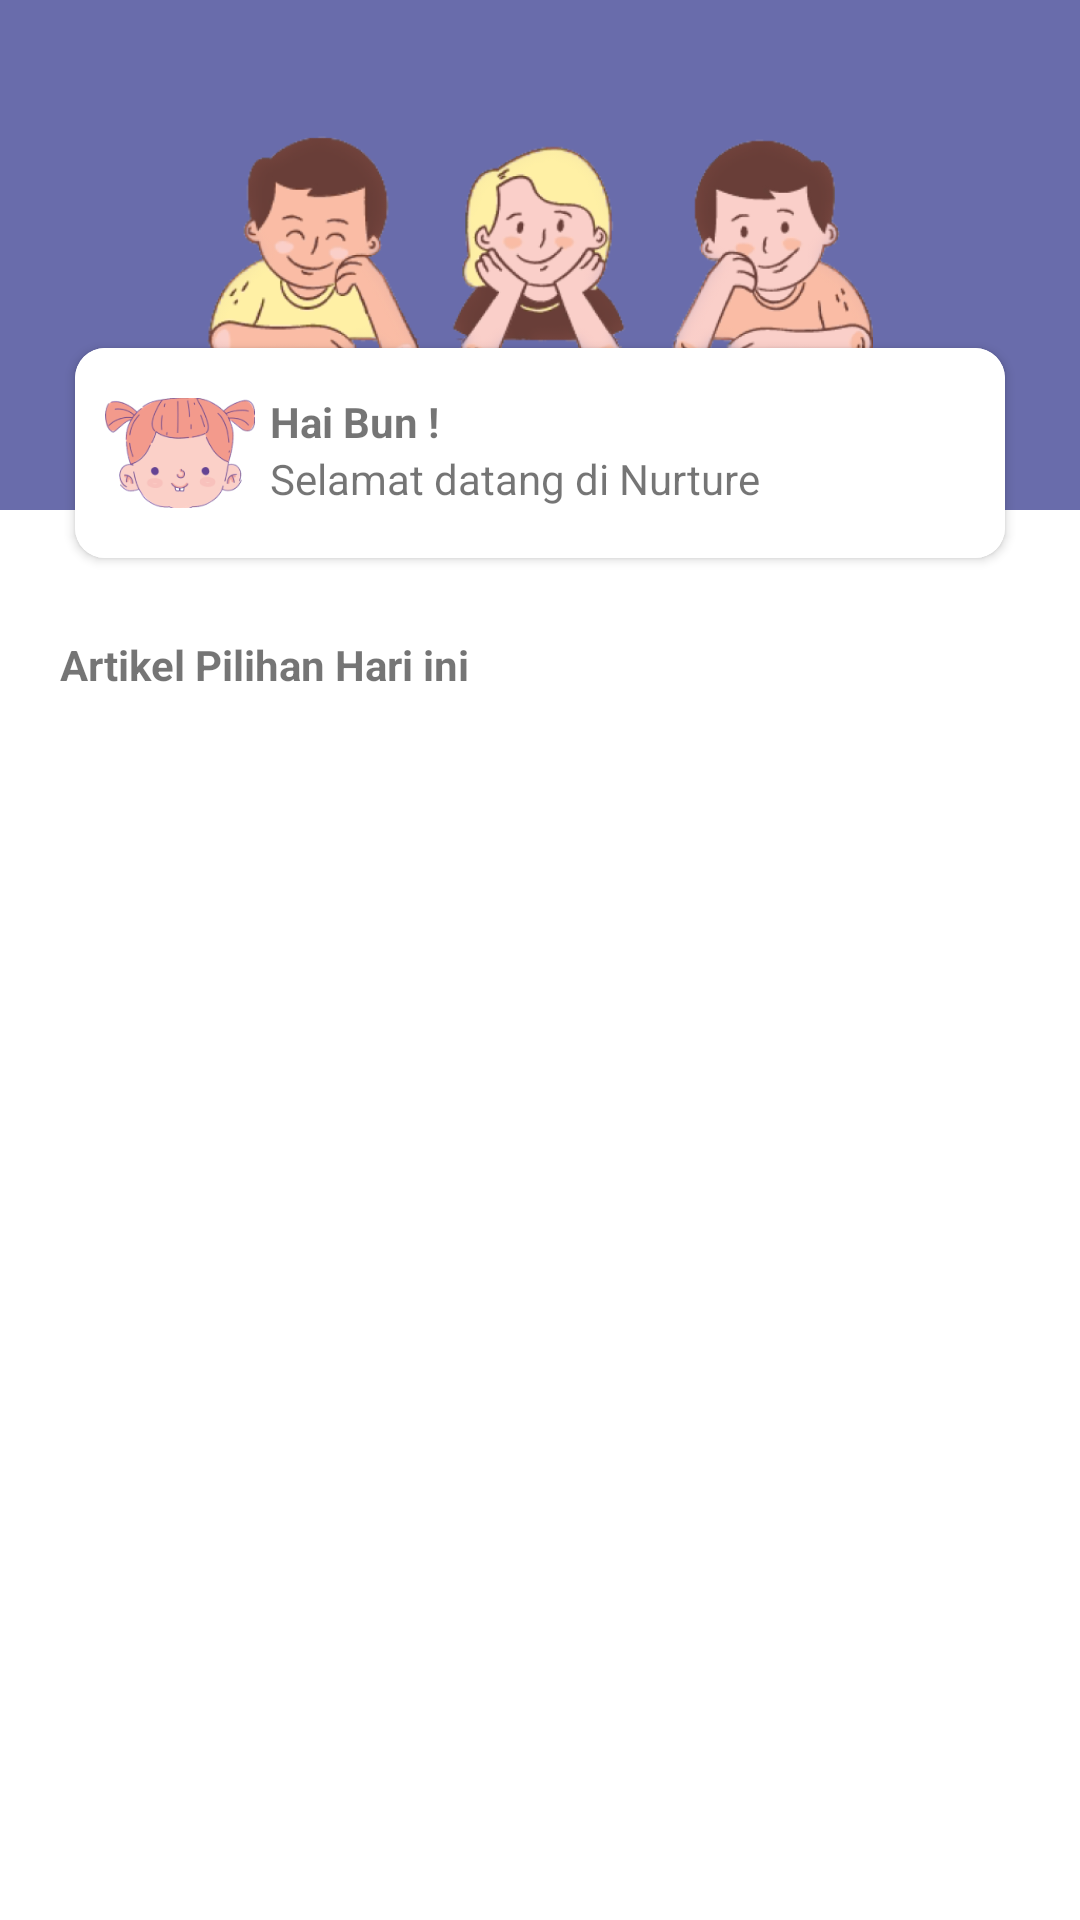

Named icons in this screenshot (1080x1920) and their bounding boxes, (left=x1, top=y1, right=x2, bottom=y2):
profile welcome: (left=105, top=398, right=255, bottom=508)
